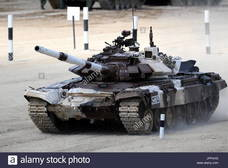t72: (27, 43, 223, 132)
